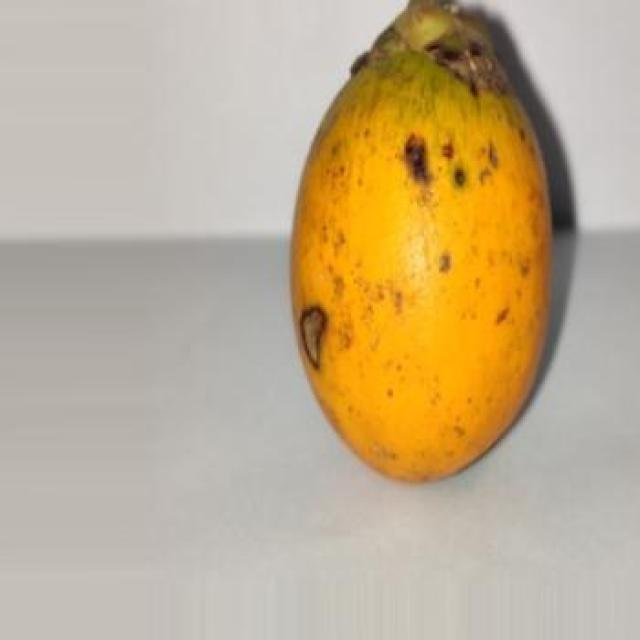good: (289, 2, 554, 486)
